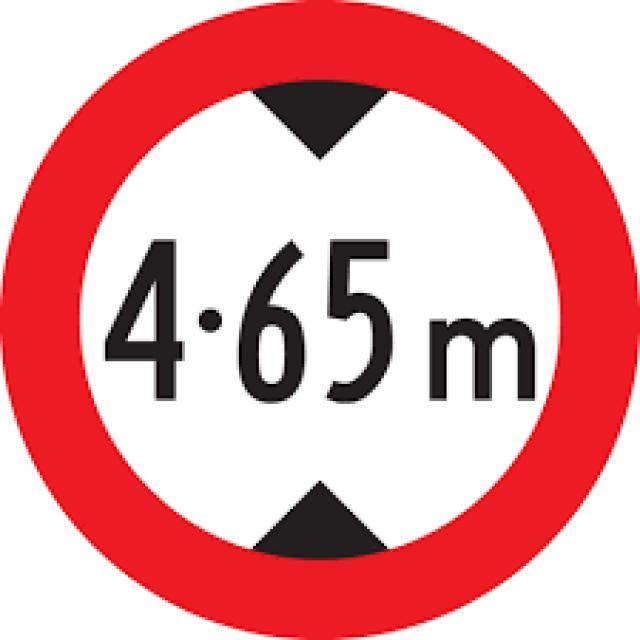height limit: (18, 20, 617, 614)
